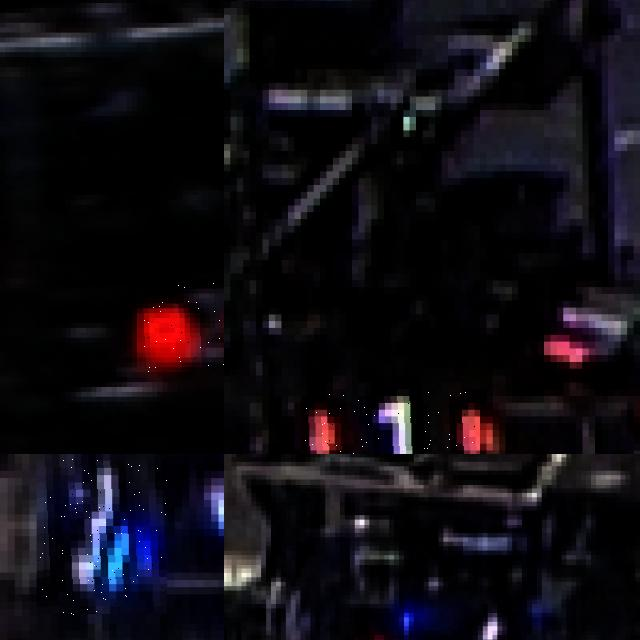B3: (36, 454, 167, 616)
R1: (301, 389, 480, 454)
R2: (136, 278, 224, 372)
